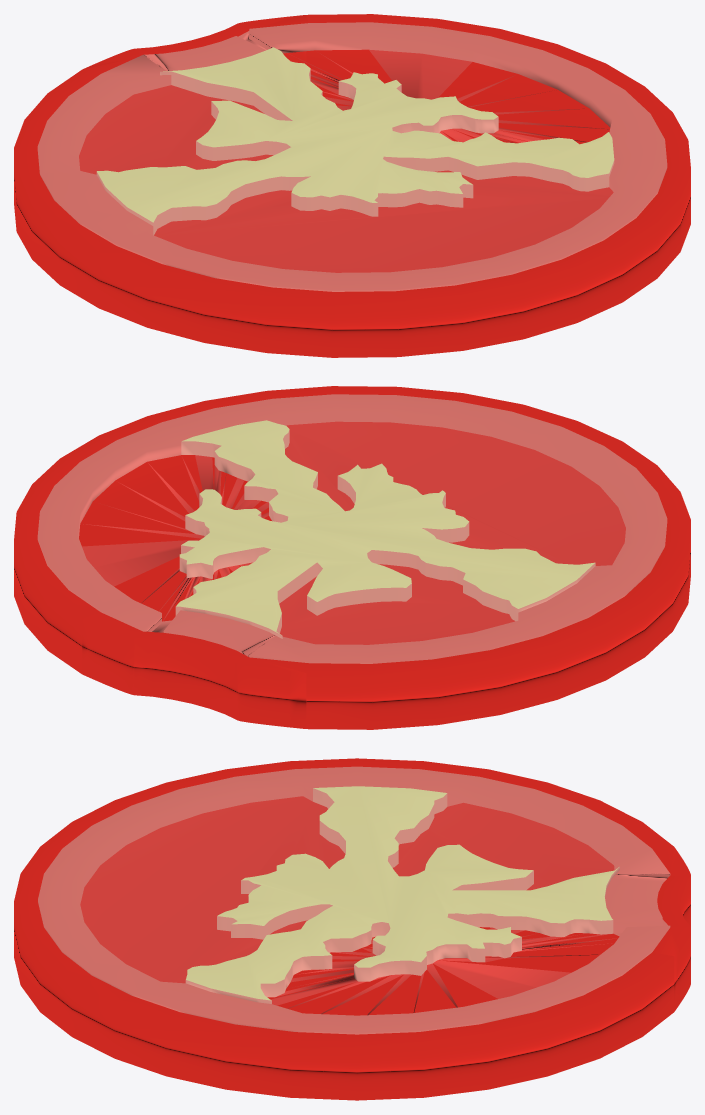
Rendered from tomato.glb.
The picture shows the model from 3 angles, top to bottom: view 1: azimuth 30°, elevation 25°; view 2: azimuth 150°, elevation 25°; view 3: azimuth 270°, elevation 25°; orthographic projection.
Parts seen in each view (by area): view 1: tomato2; view 2: tomato2; view 3: tomato2.
Part boxes in pixels (box(x1,y1,x2,y2)): tomato2: box(14, 14, 690, 357); tomato2: box(14, 386, 690, 729); tomato2: box(14, 758, 690, 1100).
Bounding box in the file's own units: 2 × 0.2 × 2.
